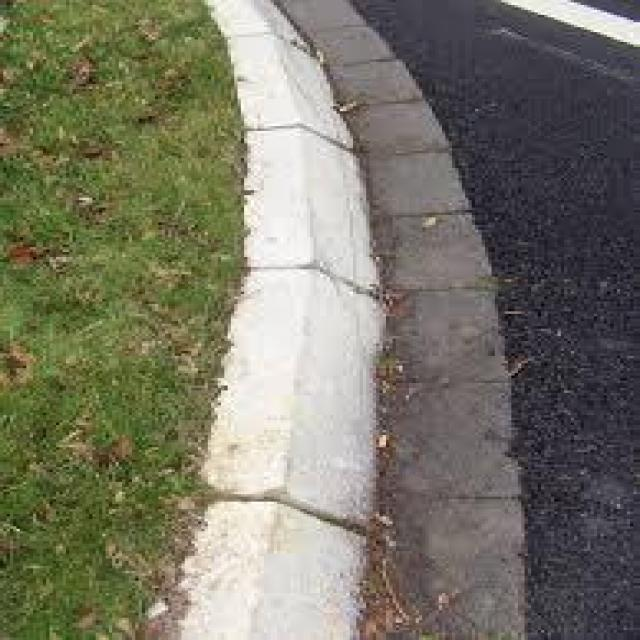curb: (165, 231, 370, 630), (212, 4, 383, 263)
